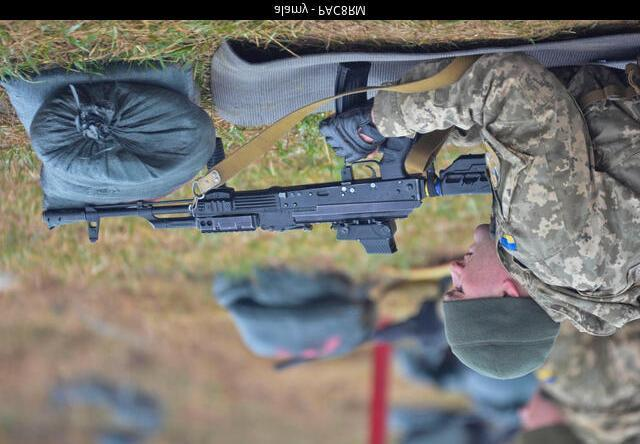larga: (41, 62, 494, 254)
